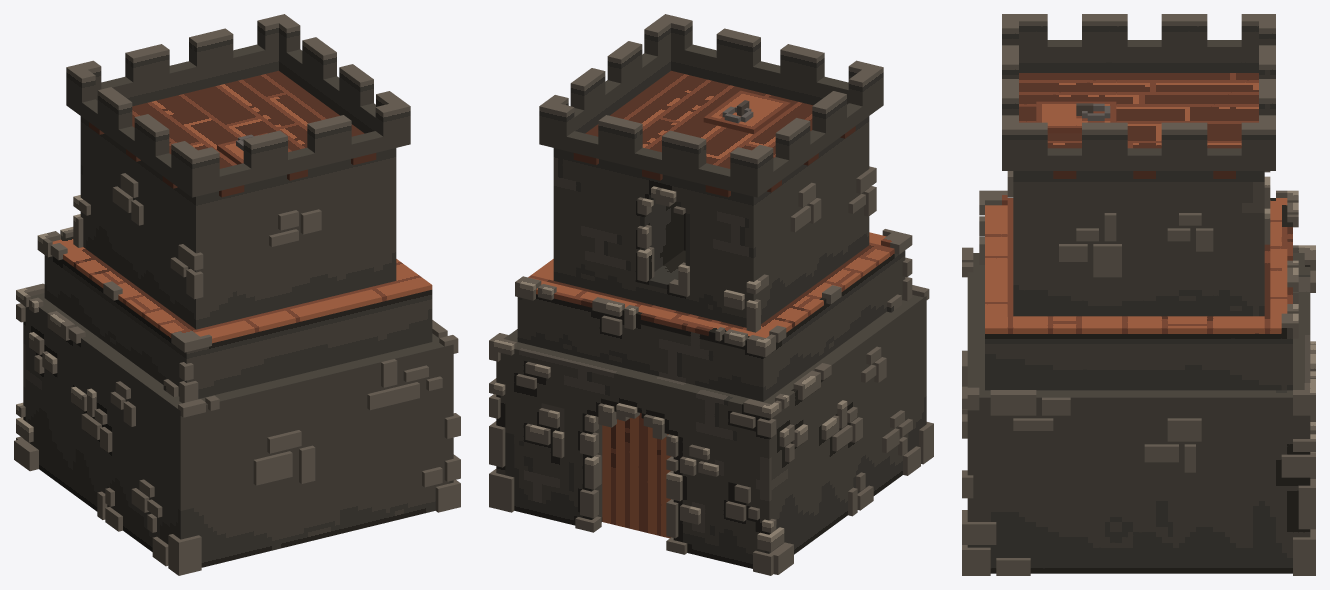
The model's file is sandbox-castle.gltf.
The picture shows the model from 3 angles, left to right: view 1: azimuth 30°, elevation 25°; view 2: azimuth 150°, elevation 25°; view 3: azimuth 270°, elevation 25°; orthographic projection. The views are drawn at different scales.
Parts seen in each view (by area): view 1: Stonetower-Mesh; view 2: Stonetower-Mesh; view 3: Stonetower-Mesh.
Boxes of the visible parts, box(x1,y1,x2,y2) form: Stonetower-Mesh: box(14, 14, 460, 575); Stonetower-Mesh: box(489, 14, 933, 575); Stonetower-Mesh: box(962, 14, 1315, 575).
Size of the model in its own units: 63 by 83 by 62.
1 material, 1 textured.
